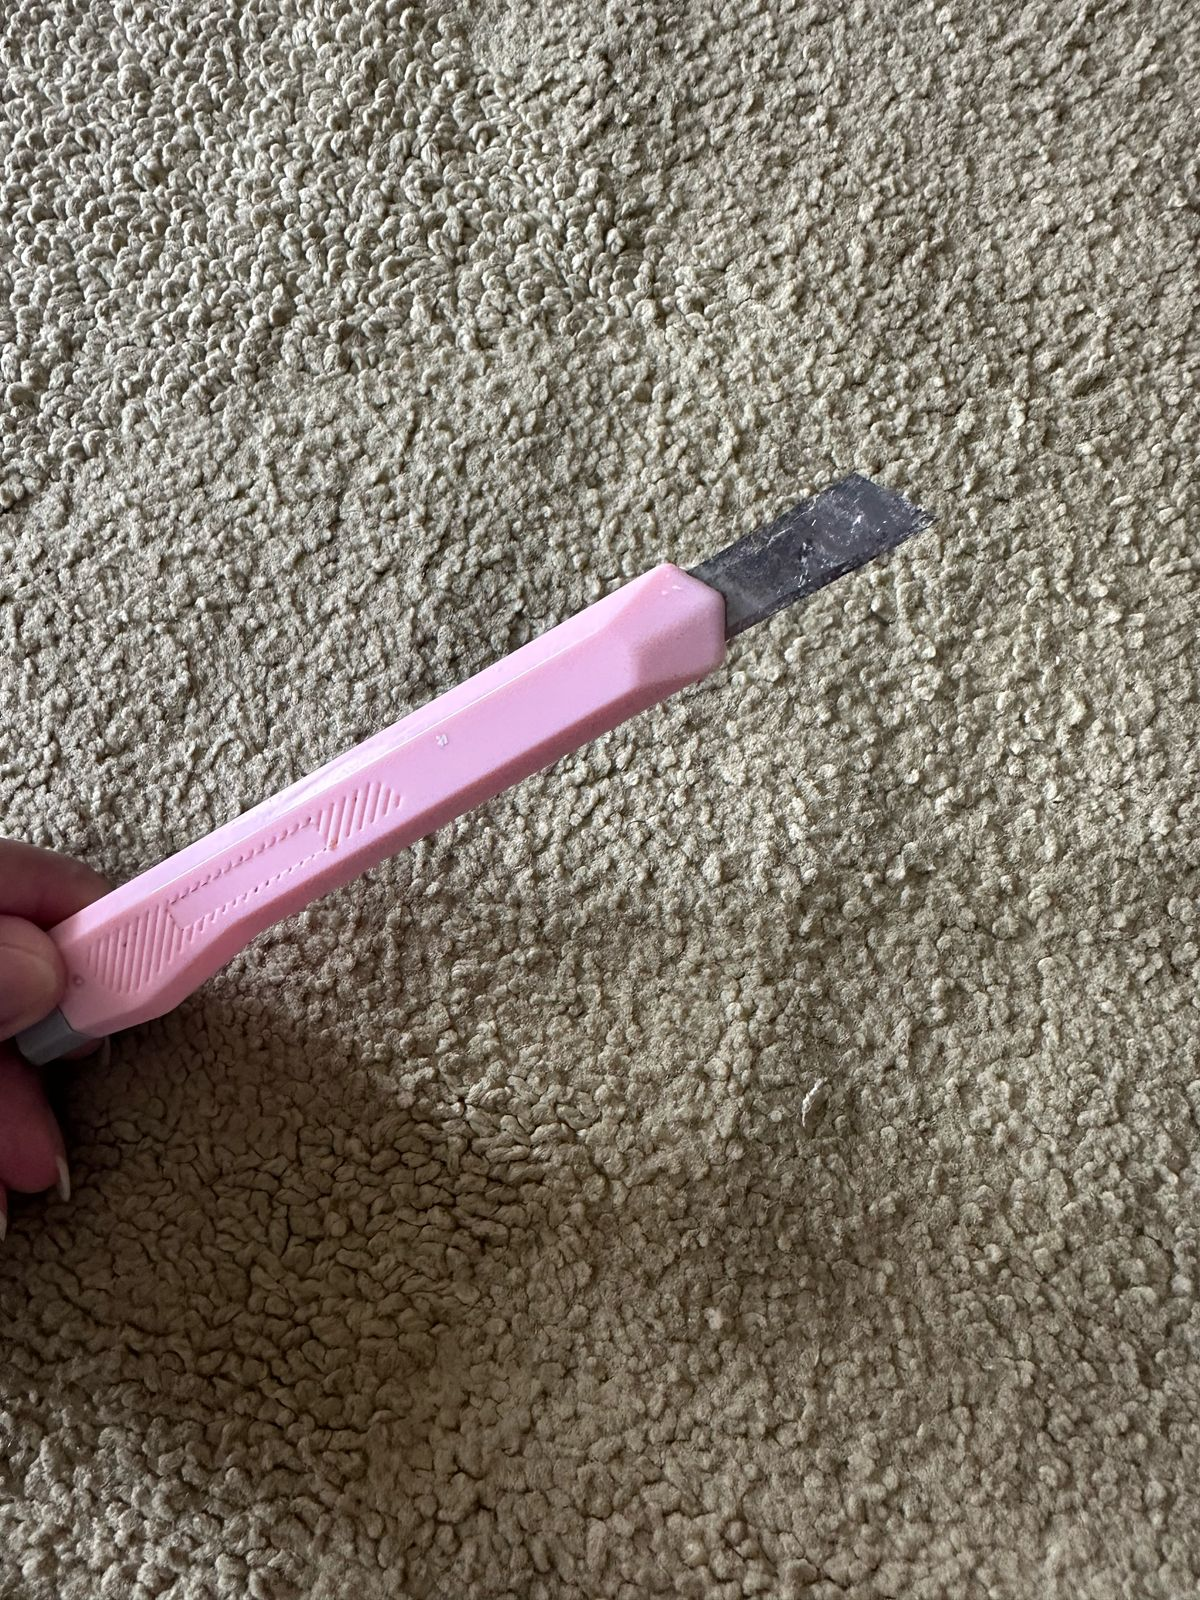estilete: (126, 422, 958, 1018)
